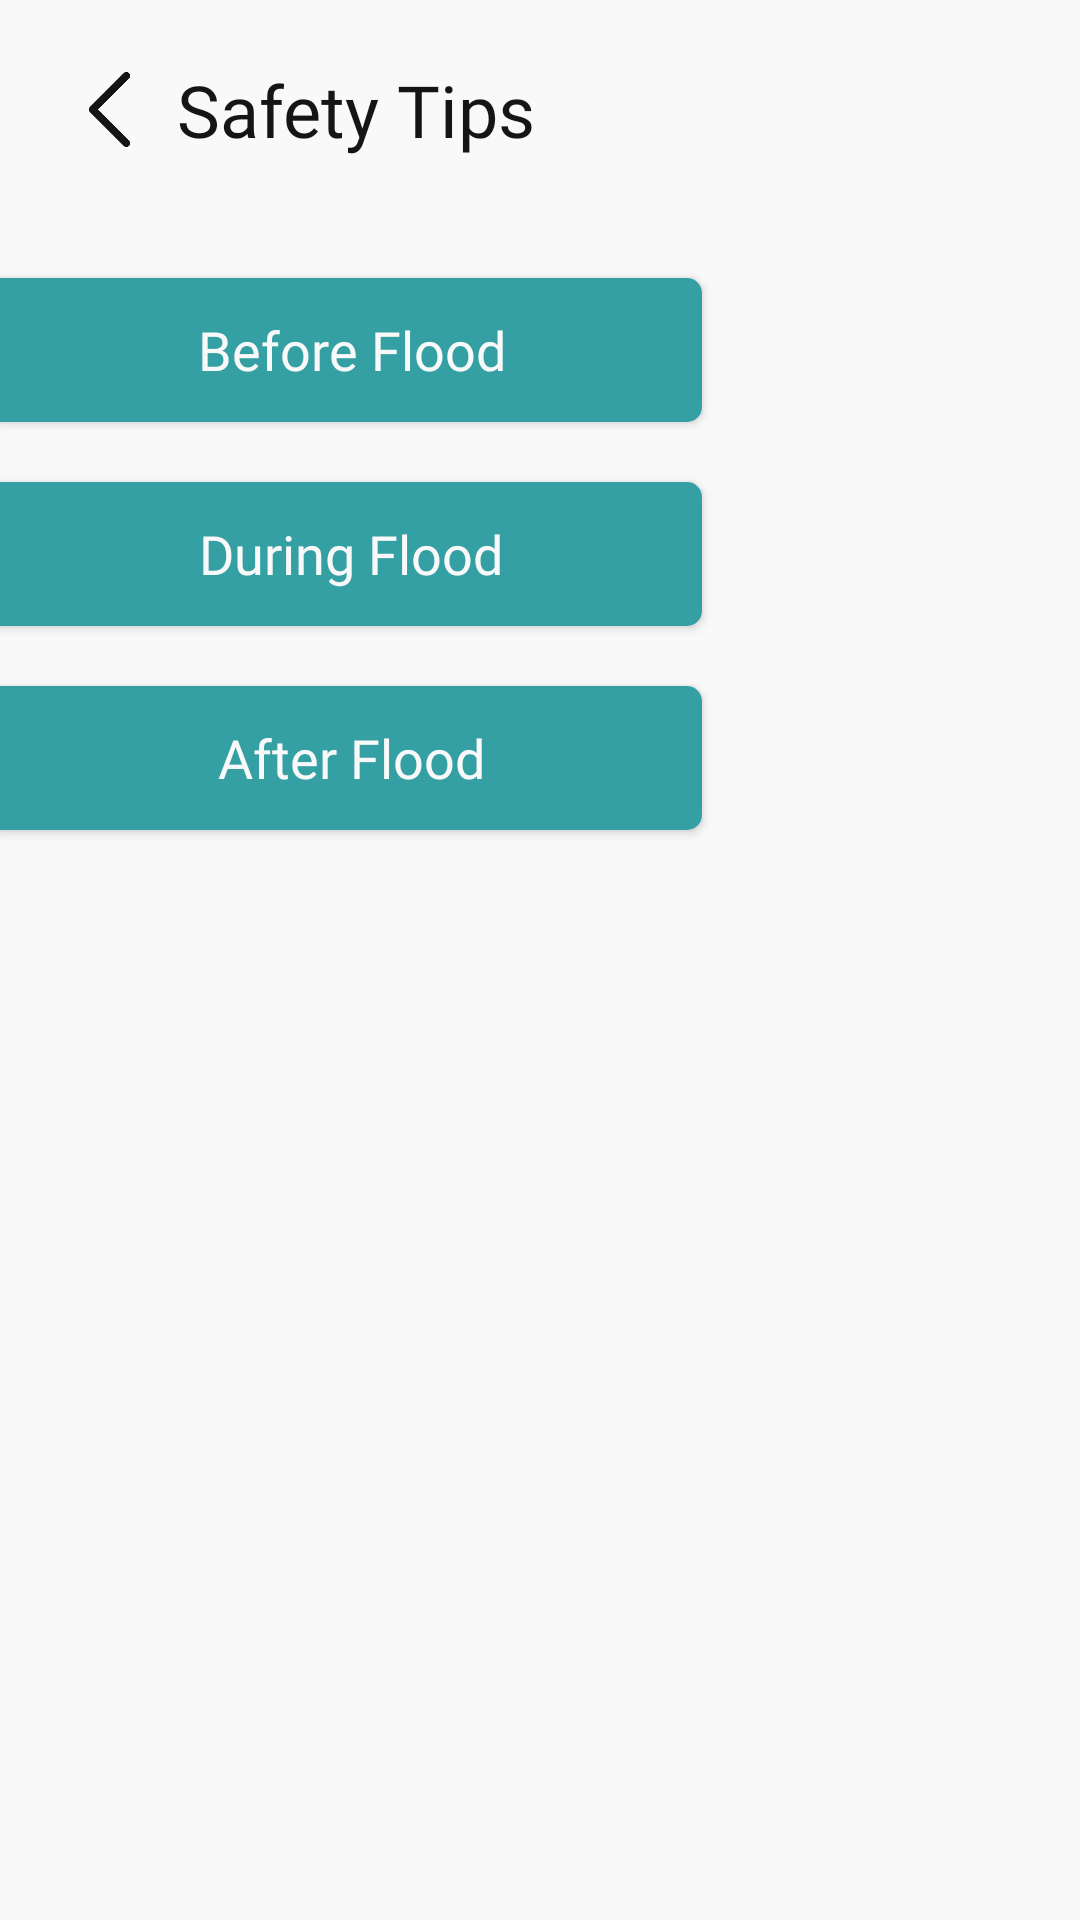

Icons on this 1080 x 1920 Android screen, each with the point to tap as [x,y]:
backicon: [109,109]
